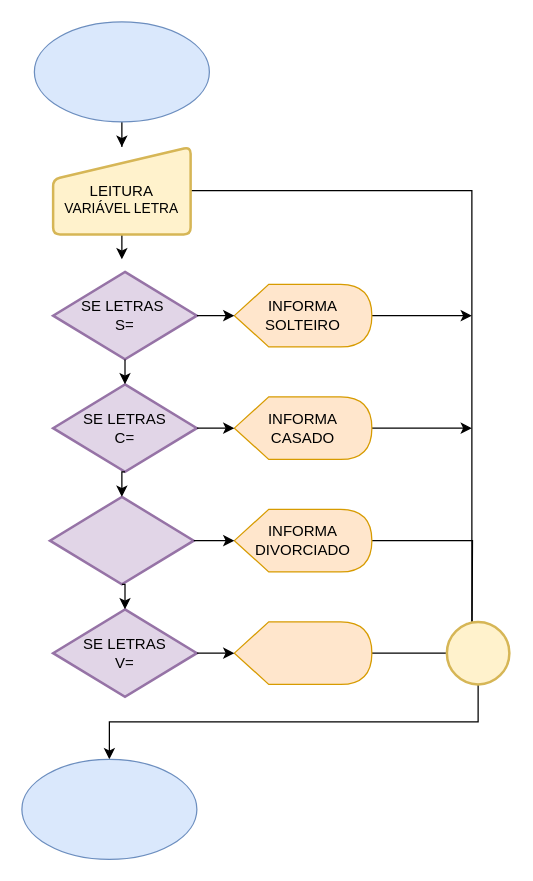
This 533x881 diagram has some shape labels left out. The shapes that lost their labels are listed below. From the top down, each one's centre as x and y in pixels, then its label:
(x=121, y=71): INICIO
(x=121, y=540): SE LETRAS D=
(x=302, y=652): INFORMA VIÚVO
(x=109, y=808): FIM
